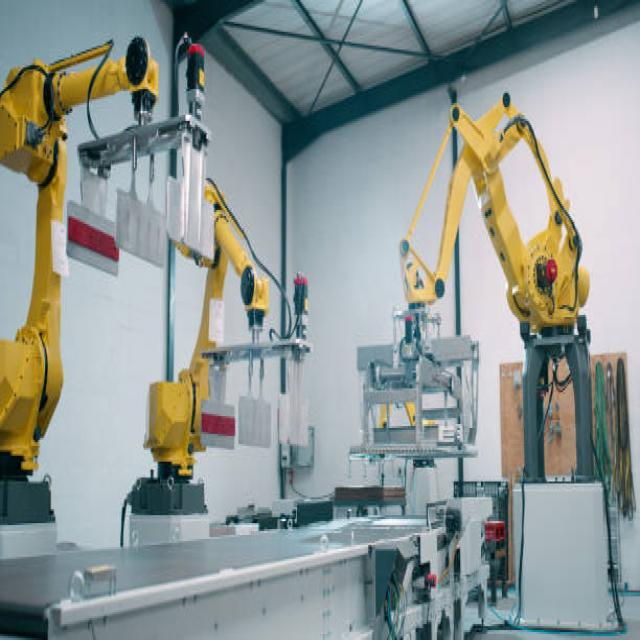Robotic-arm: (0, 31, 163, 512), (403, 92, 596, 366), (148, 166, 269, 534)
